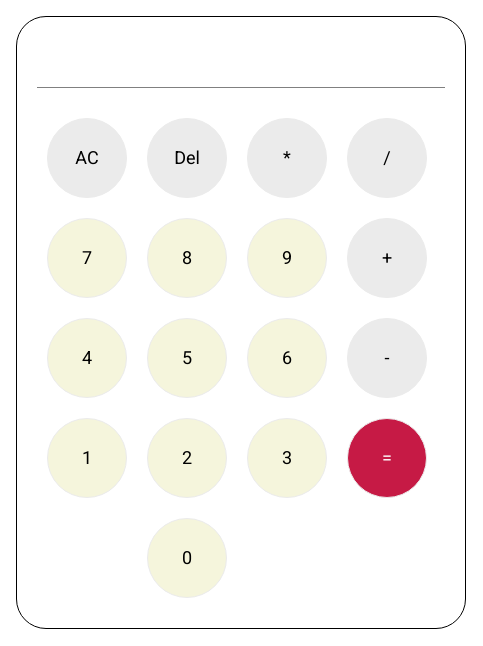
Test: Test Application › Should delete text if click on Del button
Expected: the field with test id "screen-input" is empty, [37,36,445,88]
Step 1. Click the button "1" → (87, 458), box [47,418,127,498]
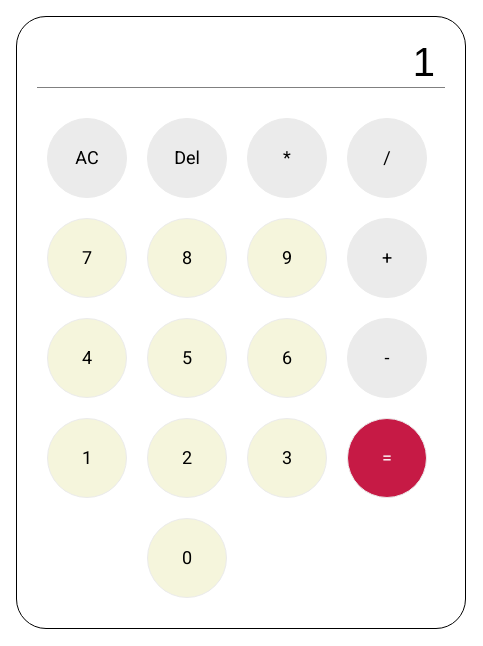
Step 2. Click the button "2" → (187, 458), box [147,418,227,498]
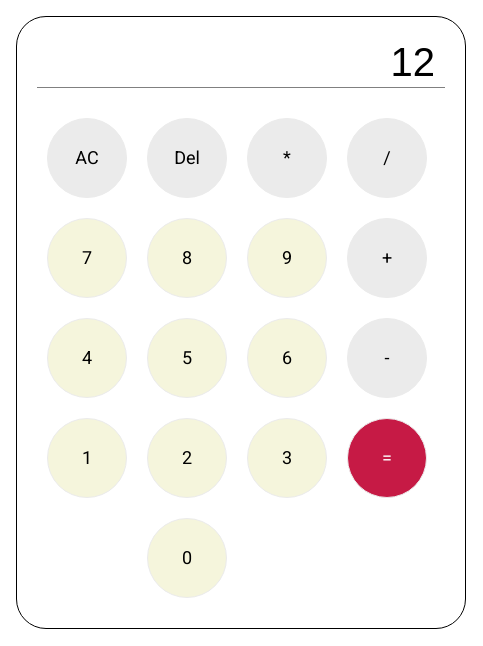
Step 3. Click the button "Del" → (187, 158), box [147,118,227,198]
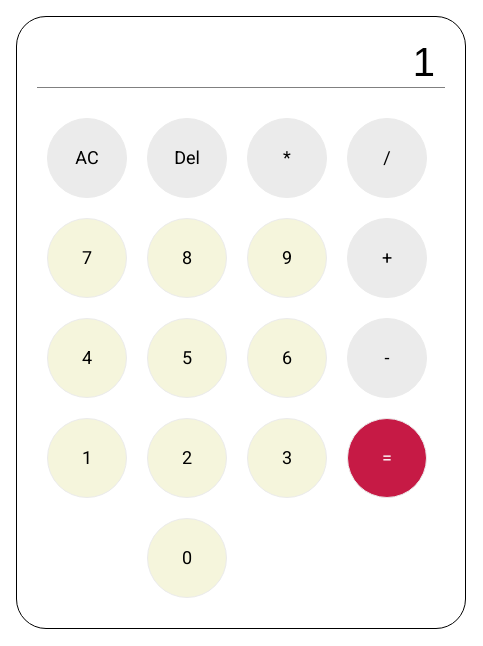
Now the field holds "1", box [37,36,445,88]
